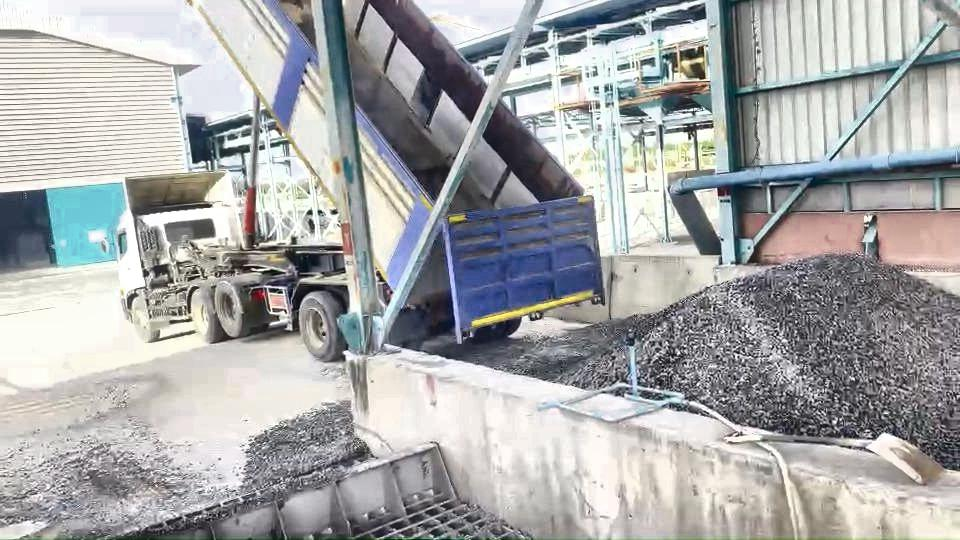gravel: (475, 256, 960, 469), (242, 401, 368, 492)
